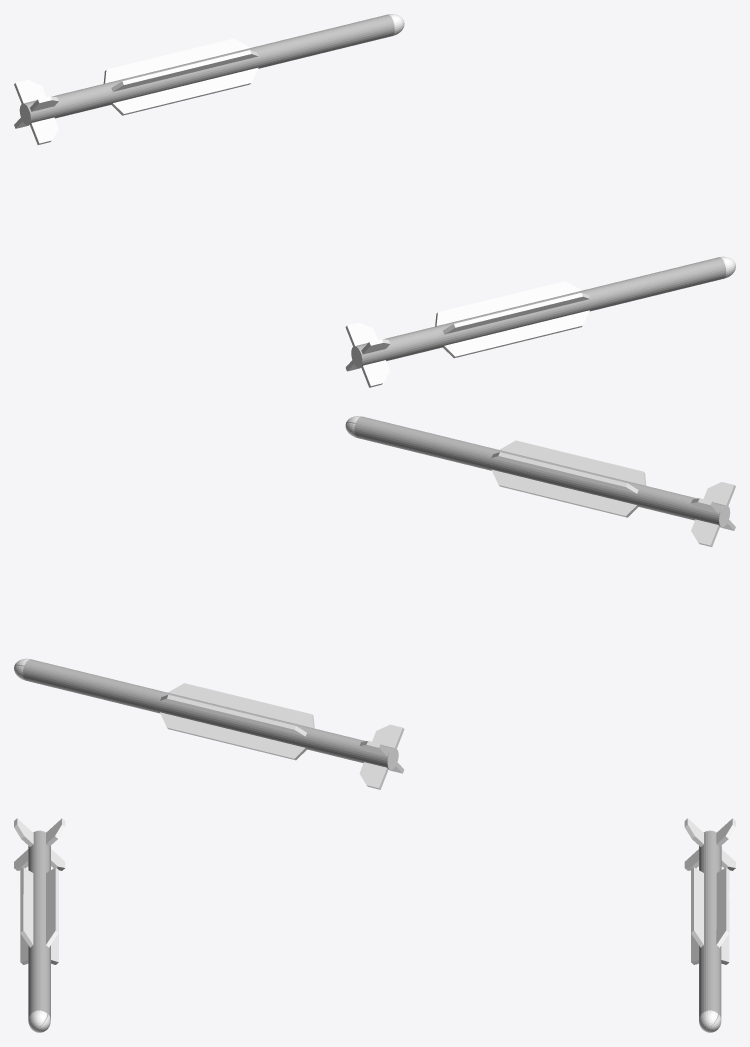
Rendered from aam5lf15j14.glb.
3 views of the same model, one above another, from view 1: azimuth 30°, elevation 25°; view 2: azimuth 150°, elevation 25°; view 3: azimuth 270°, elevation 25° (orthographic).
Visible parts, largest first — view 1: 円柱.010, 円柱.003; view 2: 円柱.003, 円柱.010; view 3: 円柱.010, 円柱.003.
Boxes of the visible parts, x1,y1,x2,y2 form: 円柱.010: (345, 256, 735, 387); 円柱.003: (14, 14, 404, 144); 円柱.003: (14, 658, 404, 789); 円柱.010: (345, 416, 735, 546); 円柱.010: (14, 818, 65, 1032); 円柱.003: (684, 818, 735, 1032).
Bounding box in the file's own units: 4 × 0.4662 × 6.54.
Materials: 3 (1 with a texture image).
